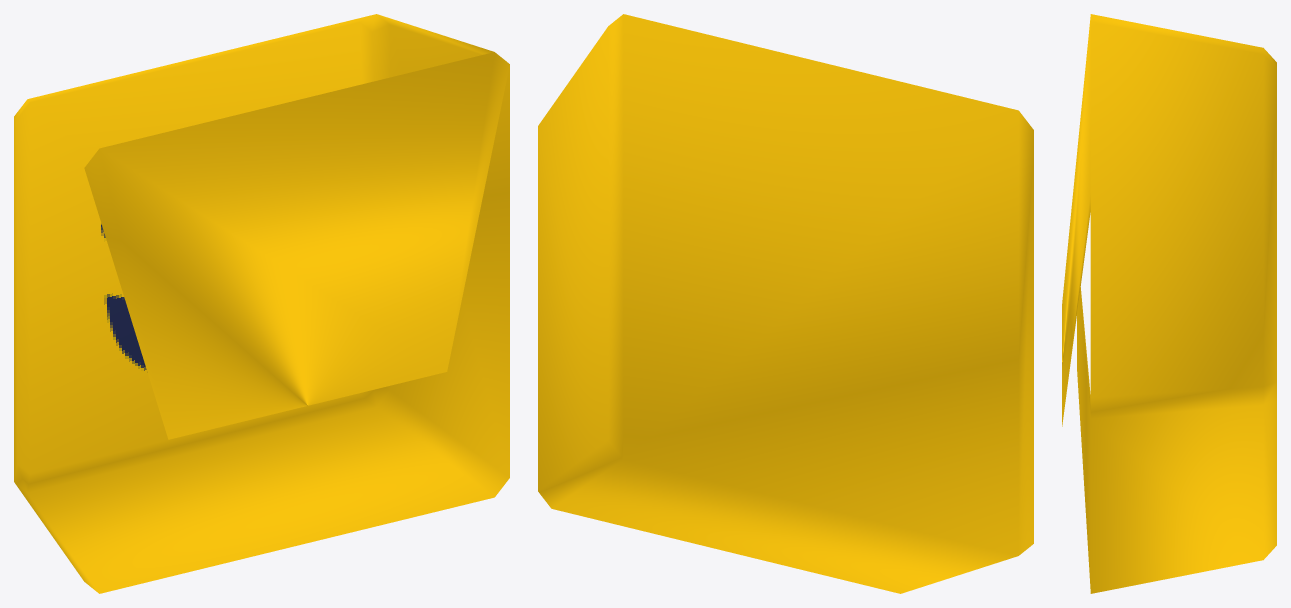
The model's file is ps2_save-icons_kotobanopuzzlemojipittan.glb.
3 views of the same model, side by side, from view 1: azimuth 30°, elevation 25°; view 2: azimuth 150°, elevation 25°; view 3: azimuth 270°, elevation 25° (orthographic). The views are drawn at different scales.
Parts seen in each view (by area): view 1: mojipittann.ico; view 2: mojipittann.ico; view 3: mojipittann.ico.
Boxes of the visible parts, x1,y1,x2,y2 form: mojipittann.ico: (14, 14, 509, 593); mojipittann.ico: (538, 14, 1033, 593); mojipittann.ico: (1062, 14, 1276, 593).
Bounding box in the file's own units: 2.52 × 2.52 × 1.21.
Materials: 1 (1 with a texture image).
